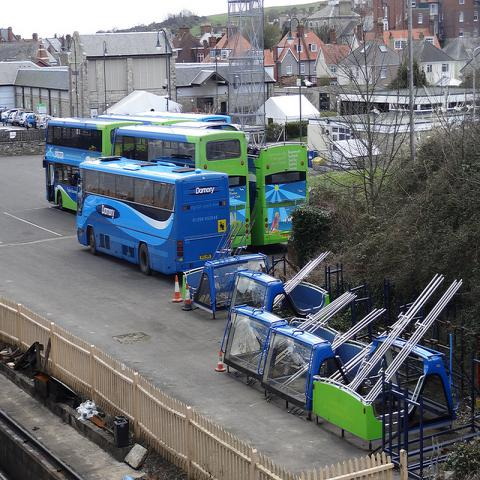bus: (75, 153, 232, 276), (111, 125, 252, 249), (44, 120, 154, 210), (248, 142, 309, 240), (97, 115, 240, 131), (97, 110, 230, 122)
car: (19, 111, 34, 126), (10, 111, 24, 125), (38, 116, 52, 129), (36, 116, 48, 128), (24, 114, 34, 128), (1, 109, 11, 120)
